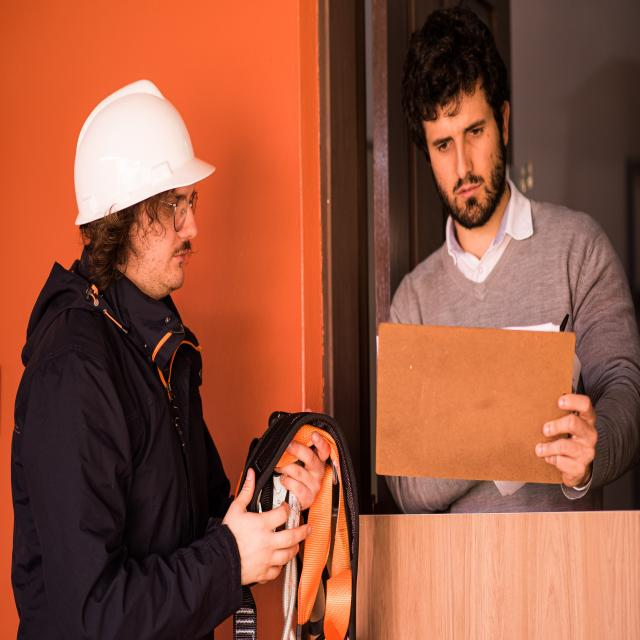capacete: (68, 72, 220, 231)
